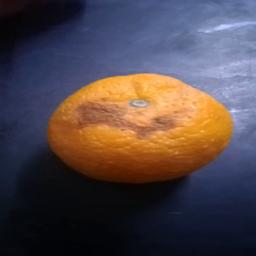Orange Semifresh: (29, 65, 244, 185)
